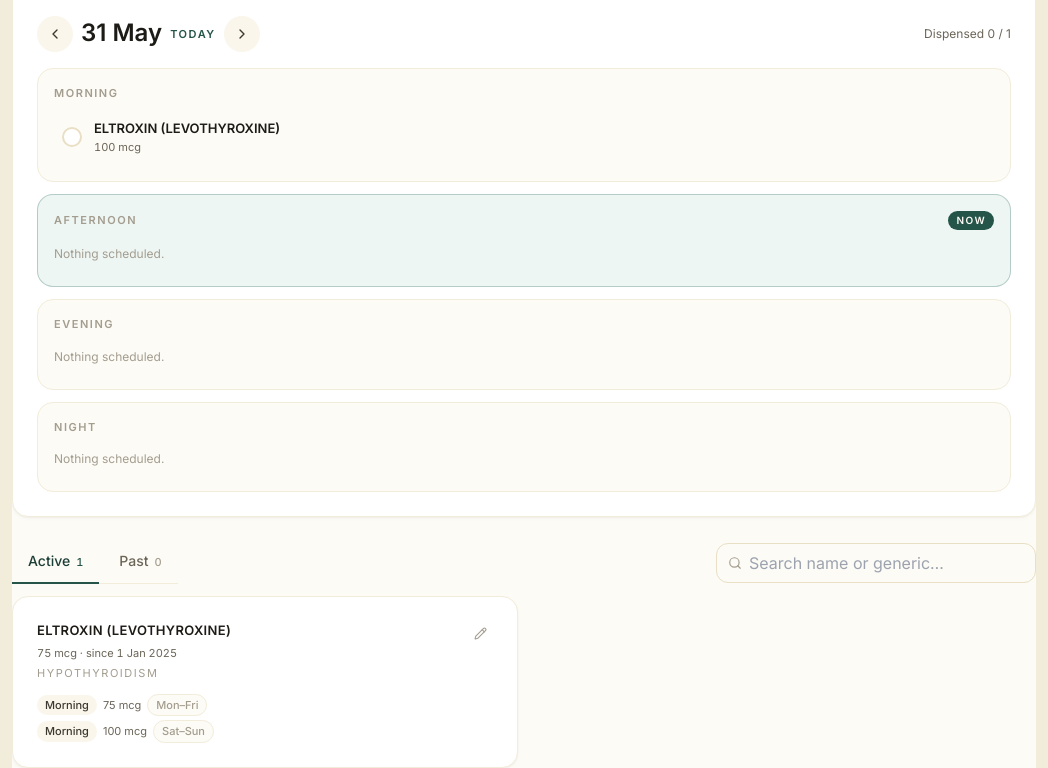
Test: Medications page — list cards › clicking Edit button shows MedicationEditRow (teal panel)
The image size is (1048, 768).
(page scrolled)
Step 1. Click the button named "edit medication" → (480, 634), box [468,621,493,646]
(page scrolled)
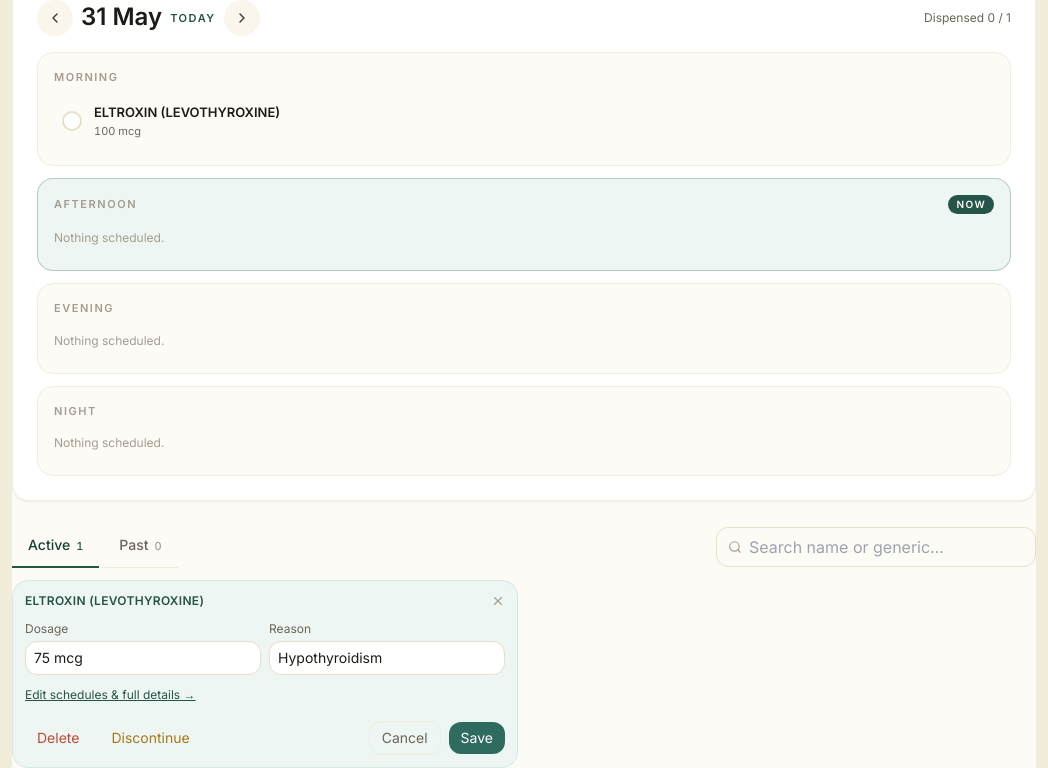
expect the button "Save" is shown: met, box [449,722,505,754]
expect the button "Cancel" is shown: met, box [369,721,441,755]
expect the button "Delete" is shown: met, box [25,722,91,754]
